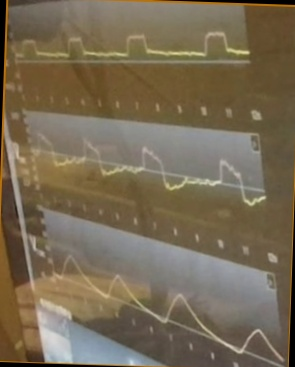Accumulation Flow: (30, 130, 265, 208)
Volume: (55, 252, 282, 361)
